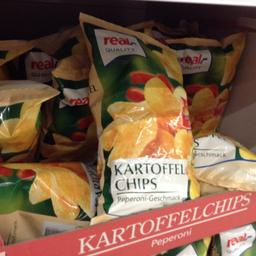chips: (78, 11, 200, 224), (167, 33, 242, 134)
